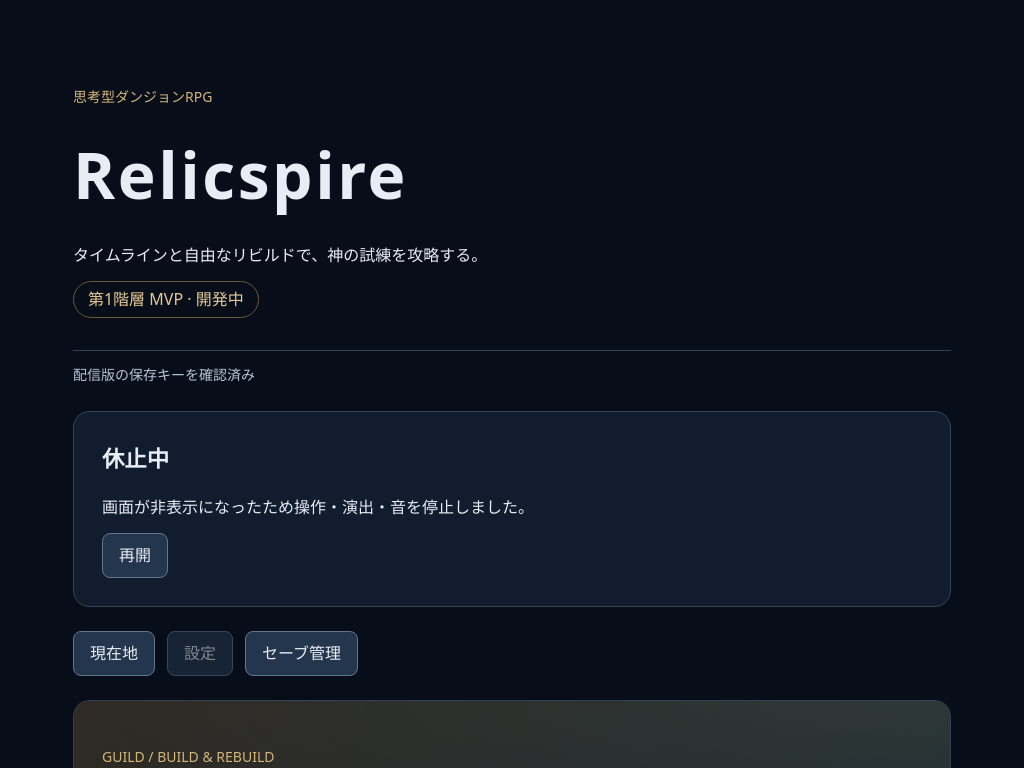
Scenario: 共通UIの起動と保存 › 非表示から戻っても設定操作を休止し、再開ボタンで操作を許可する
Expected: the button "設定" is disabled, [167,631,233,676]
Click the button "再開": coordinates (135, 556) [102,533,168,578]
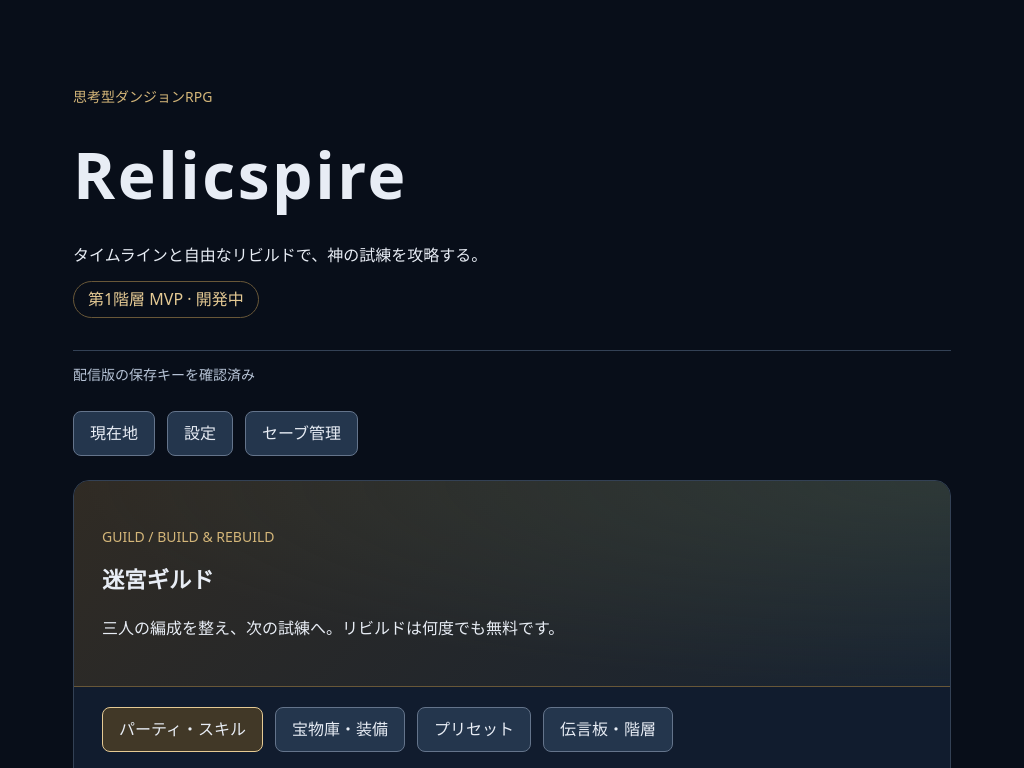
Now the button "設定" is enabled, box [167,411,233,456]
